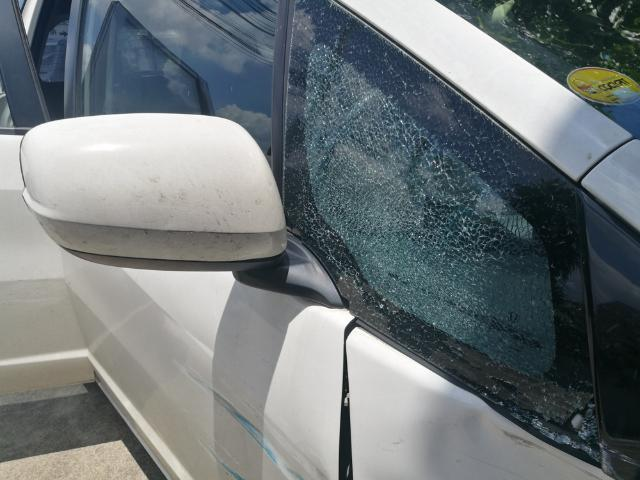glass shatter: (282, 0, 600, 461)
scratch: (166, 330, 333, 480), (501, 425, 610, 480)
